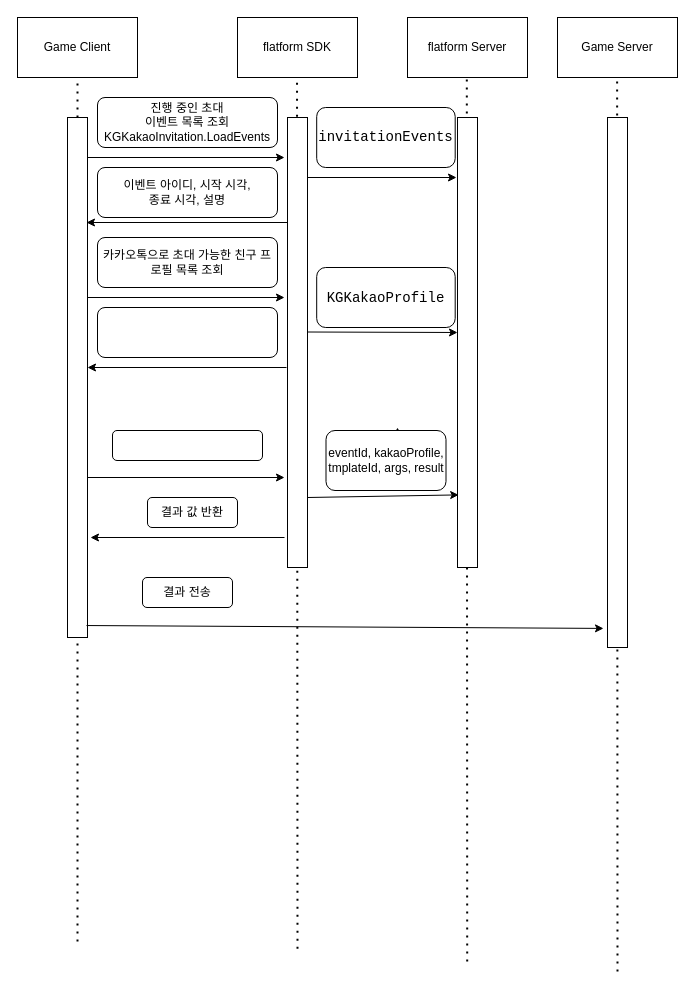
Some shapes in this 695 by 991 pixel diagram are drawn without their labels. The box of each missing label's shape, as (x1, y1, x2, y2) in pixels:
친구 닉네임, 프로필 썸네일 url, 카카오톡 설치 os 정보 메세지 수신 허용 여부: (96, 306, 278, 358)
카카오톡 초대 메시지 보내기: (112, 430, 262, 460)
